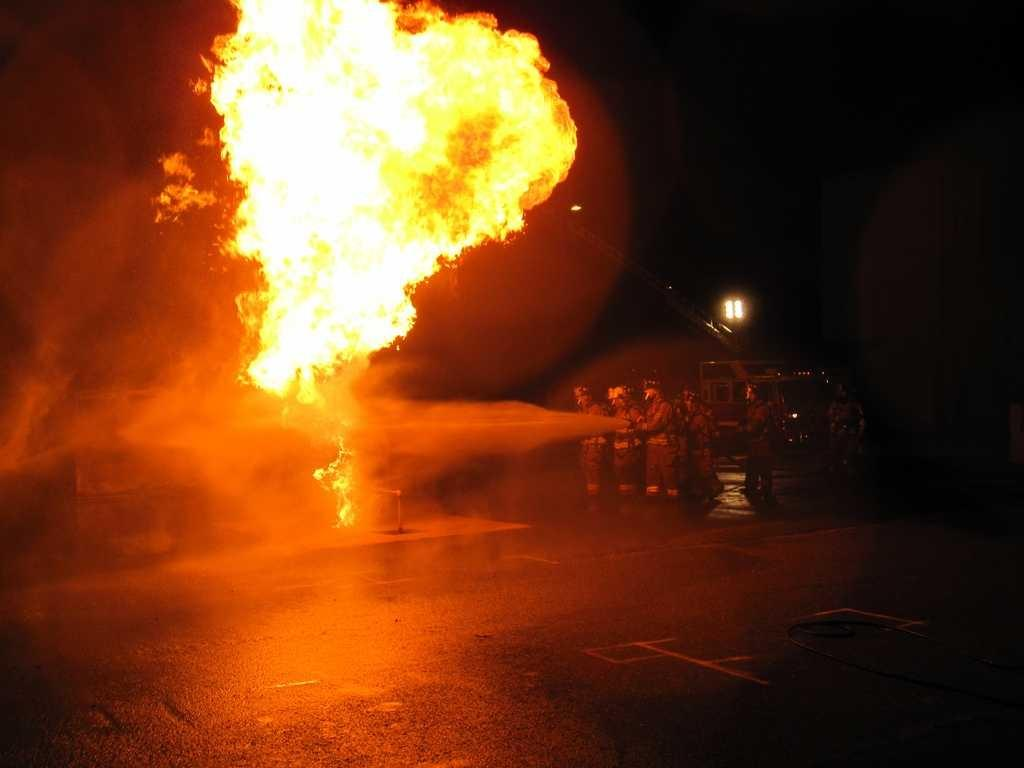fire: (244, 6, 510, 232), (272, 236, 394, 358)
